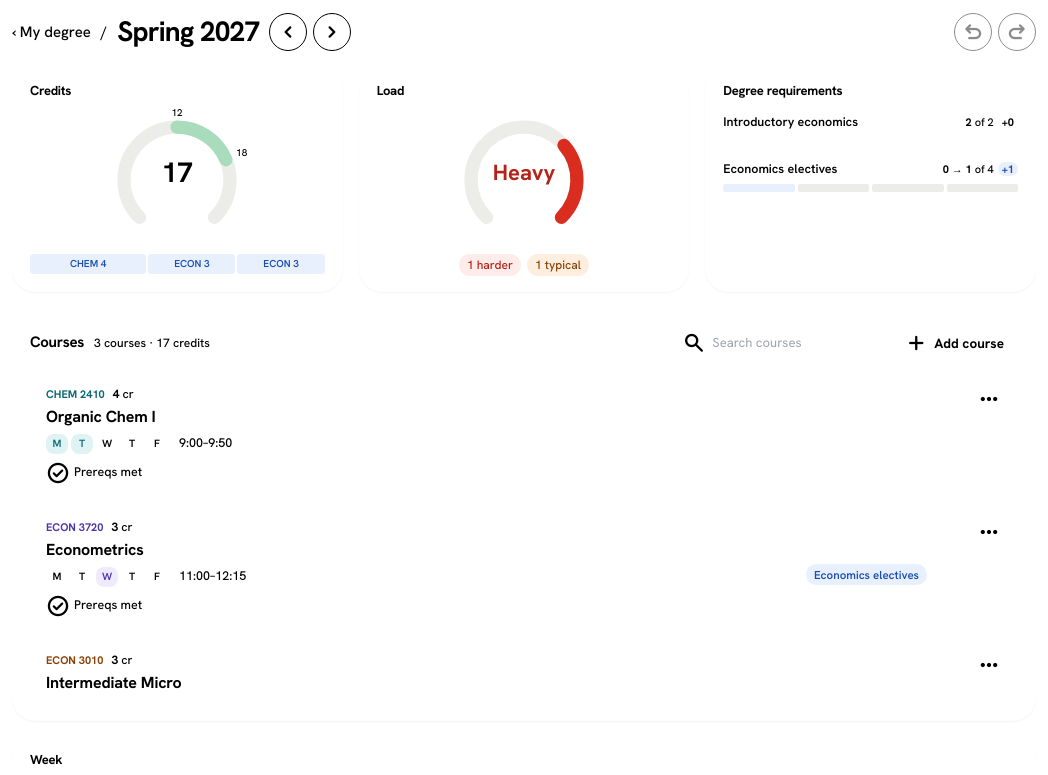
Test: search results: Add puts the course in this term and says "Added to Spring 2027" with Undo
Type "labor" into the search field labelled "Search courses". click: [792, 343]
box: x1=712 y1=334 x2=872 y2=351
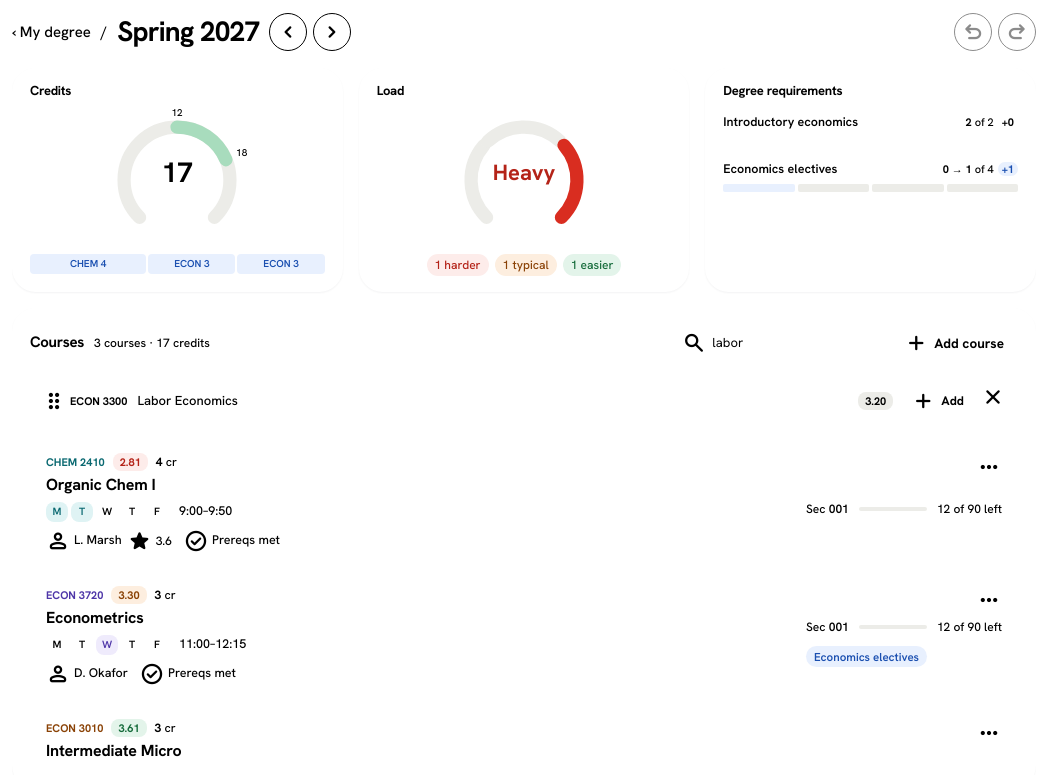
Click the button with aria-label "Add ECON 3300". click: [939, 401]
box: x1=903 y1=386 x2=974 y2=416
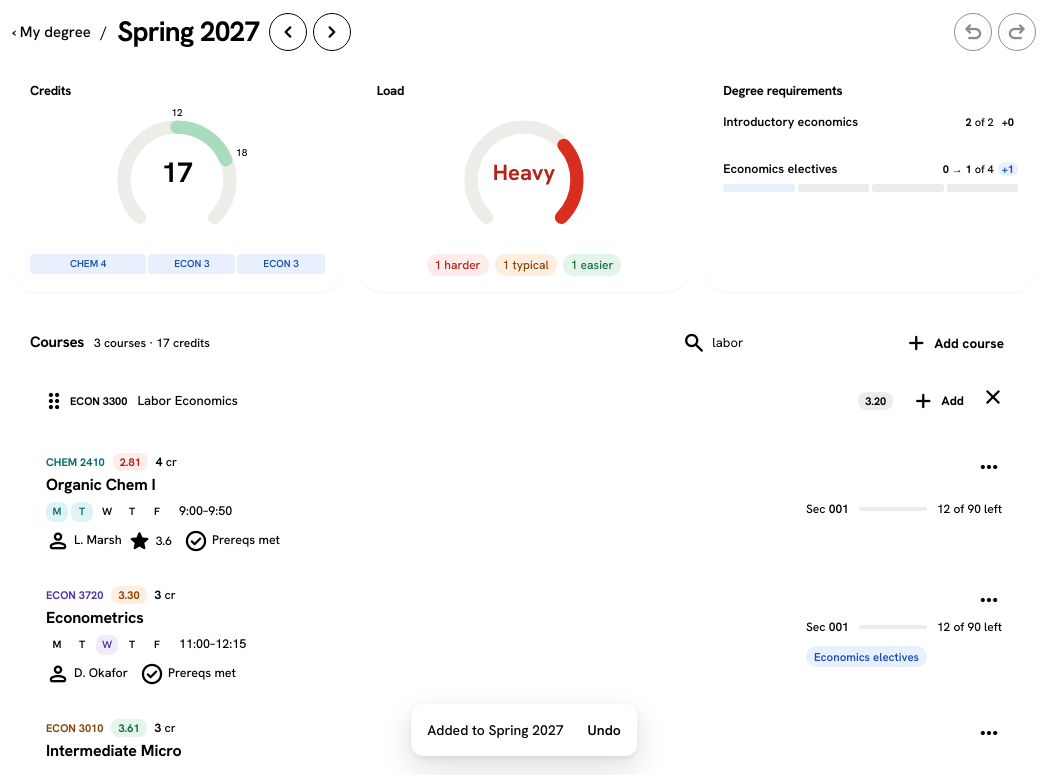
Expected: the button "Undo" is shown, x1=576 y1=708 x2=633 y2=752
